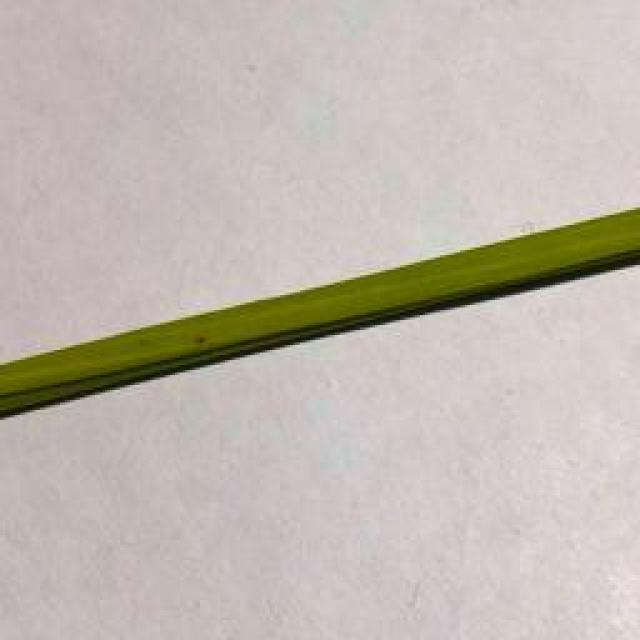Brown_Spot: (184, 329, 223, 354)
